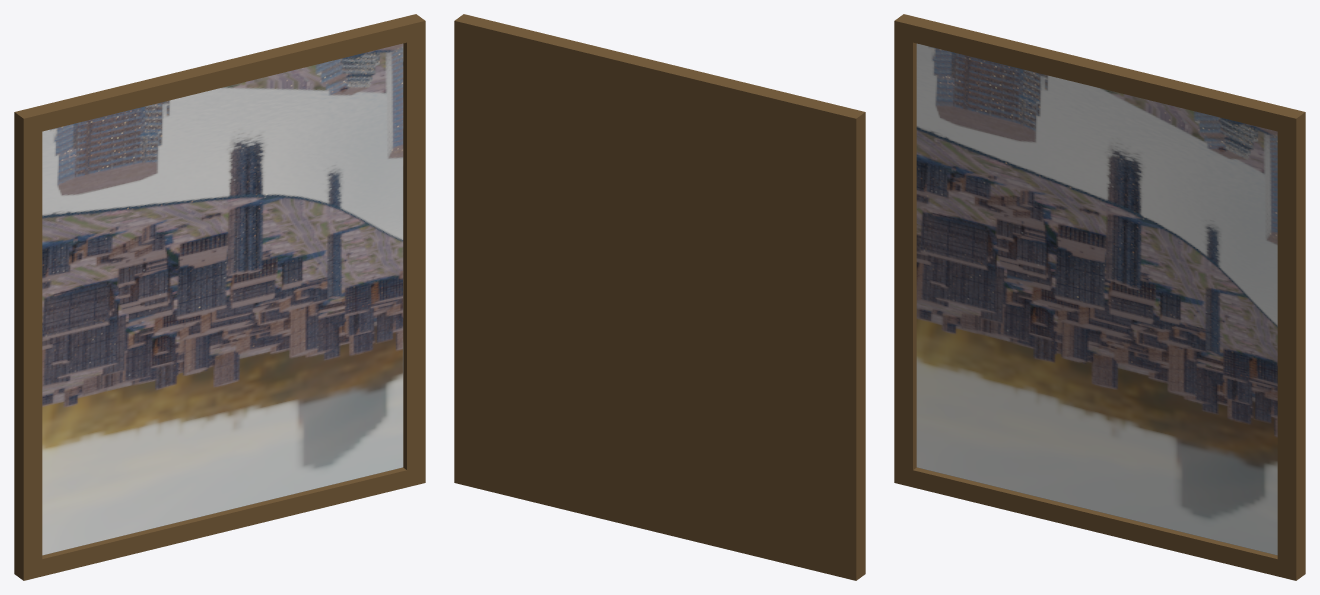
Rendered from R_Frame_1.fbx.
3 renders of one model, left to right at view 1: azimuth 30°, elevation 25°; view 2: azimuth 150°, elevation 25°; view 3: azimuth 330°, elevation 25°, orthographic.
Parts seen in each view (by area): view 1: R_Frame_1; view 2: R_Frame_1; view 3: R_Frame_1.
Boxes of the visible parts, box(x1,y1,x2,y2) form: R_Frame_1: box(14, 14, 425, 580); R_Frame_1: box(454, 14, 865, 580); R_Frame_1: box(894, 14, 1305, 580).
Bounding box in the file's own units: 761 × 30.47 × 836.
